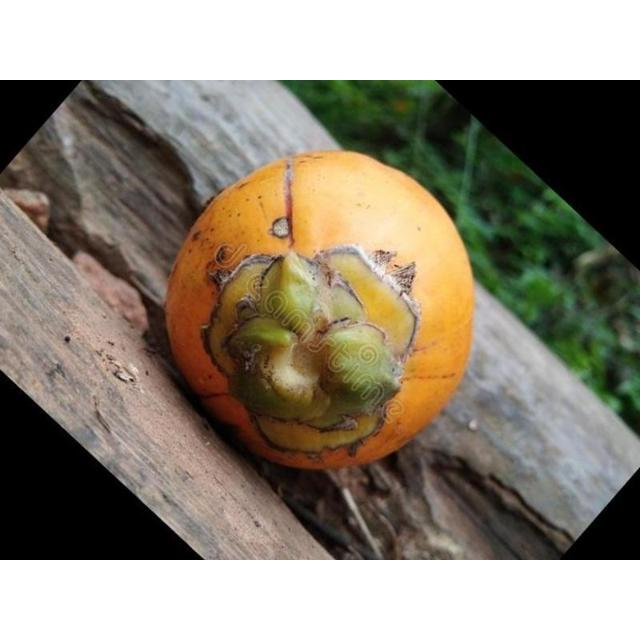good: (163, 152, 478, 473)
